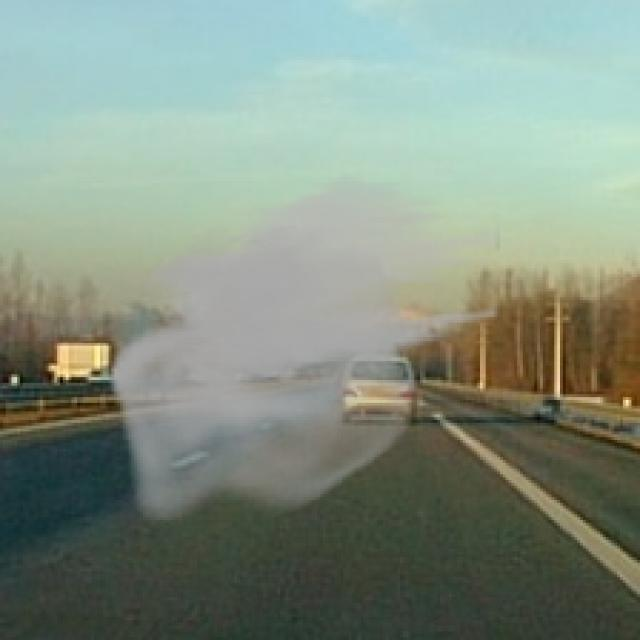smoke: (109, 171, 500, 523)
